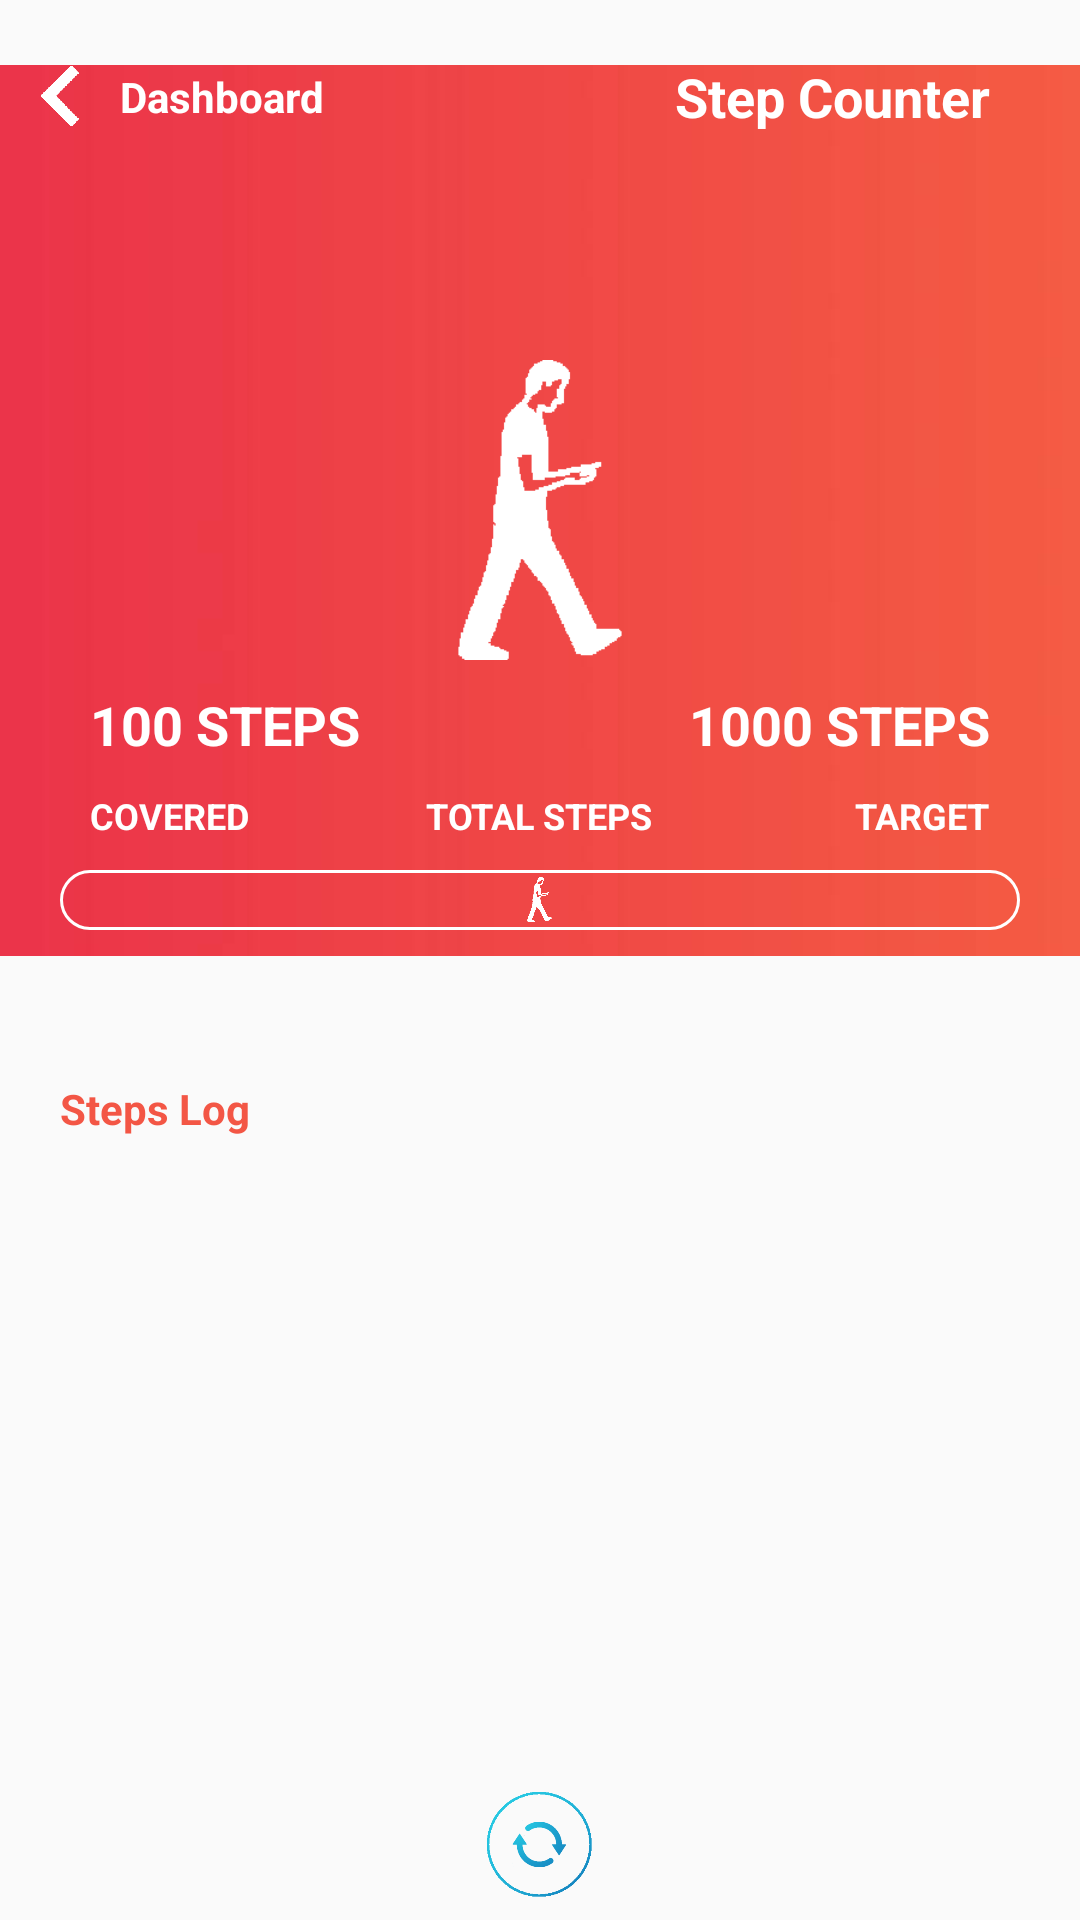

Screen size 1080×1920. Icon name, then its center in pixels as (x=x, y=y):
back: (x=60, y=96)
refreshhome: (x=539, y=1844)
walking: (x=540, y=510), (x=539, y=899)
